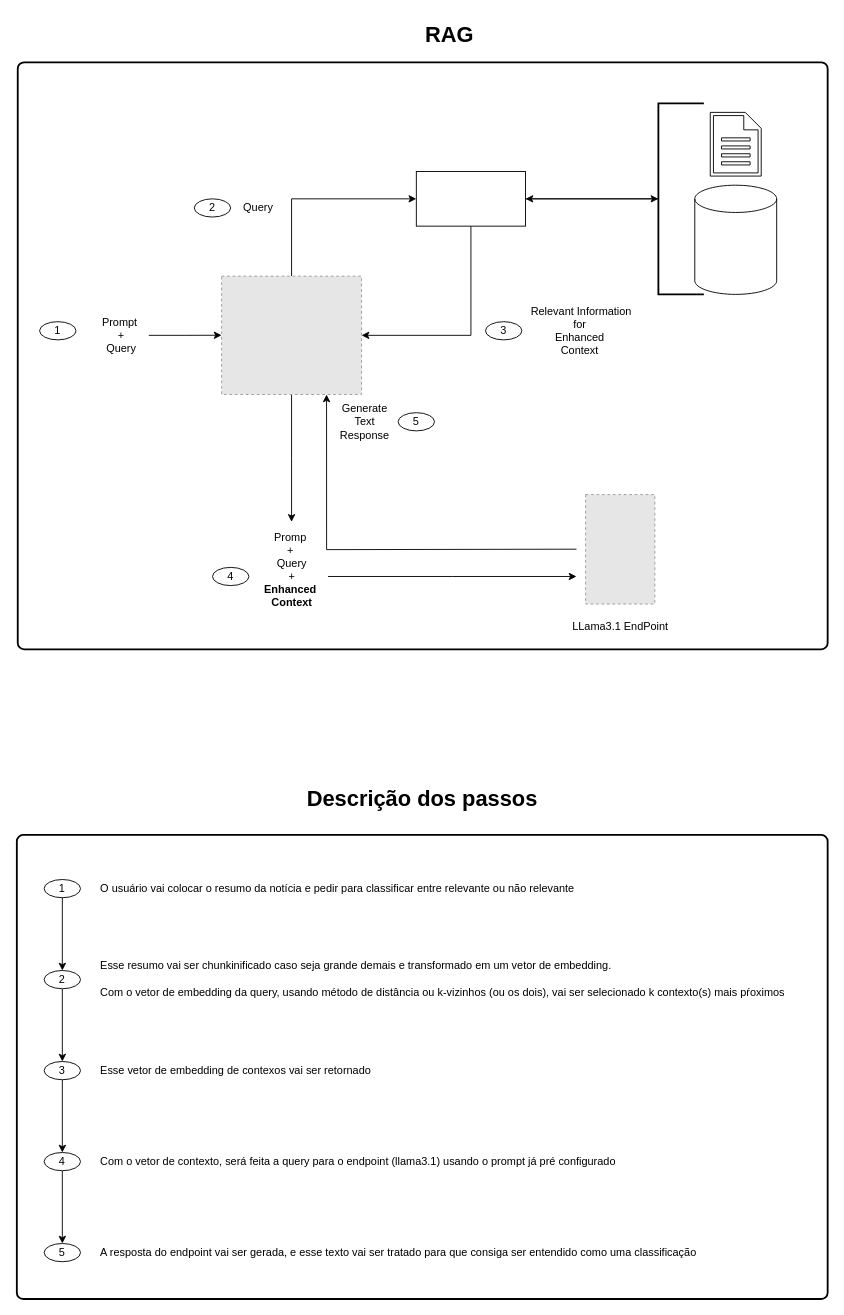
Image size: 844x1315. Some labels were removed from this diagram. Grey dashed boxes stand in for pictures. The centre of each missing label's shape, as x and y in pixels:
EIOS Knowledge Sources: the point at 735,239
Sherch Relevant Informations: the point at 470,198
